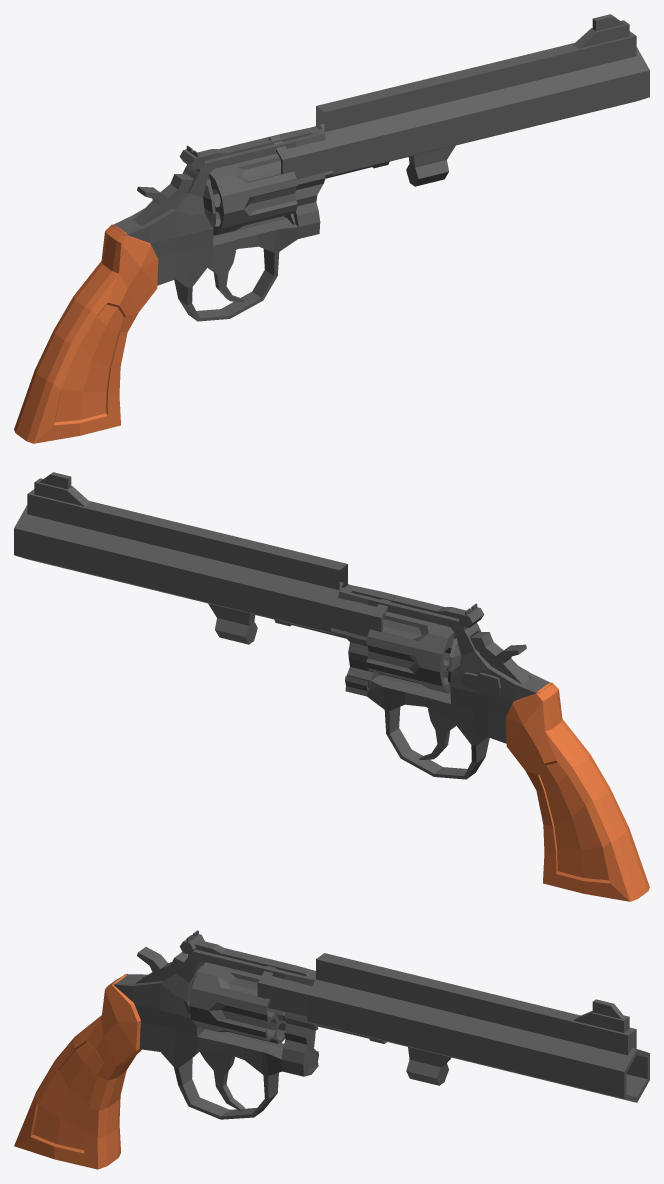
The model's file is Revolver.fbx.
3 views of the same model, one above another, from view 1: azimuth 30°, elevation 25°; view 2: azimuth 150°, elevation 25°; view 3: azimuth 330°, elevation 25° (orthographic).
Parts seen in each view (by area): view 1: Barrel, Handle, Frame, Barrel Sight, Cylinder, Hammer, Extractur Holder, Top Sight, Trigger; view 2: Barrel, Handle, Frame, Barrel Sight, Cylinder, Hammer, Extractur Holder, Cylender Mover, Top Sight, Trigger, Cube; view 3: Barrel, Handle, Frame, Barrel Sight, Cylinder, Extractur Holder, Hammer, Trigger, Top Sight.
Boxes of the visible parts, x1,y1,x2,y2 form: Barrel: (268, 47, 649, 179); Handle: (14, 224, 158, 443); Frame: (111, 126, 325, 321); Barrel Sight: (316, 14, 636, 132); Cylinder: (207, 153, 297, 235); Hammer: (133, 174, 193, 226); Extractur Holder: (406, 145, 455, 186); Top Sight: (198, 128, 312, 160); Trigger: (207, 250, 244, 301); Barrel: (14, 505, 395, 637); Handle: (505, 682, 649, 901); Frame: (338, 584, 552, 779); Barrel Sight: (27, 472, 347, 590); Cylinder: (366, 611, 456, 693); Hammer: (470, 632, 530, 684); Extractur Holder: (208, 603, 257, 644); Cylender Mover: (346, 633, 381, 689); Top Sight: (351, 586, 465, 618); Trigger: (419, 708, 456, 759); Cube: (462, 672, 500, 696); Barrel: (257, 960, 649, 1102); Handle: (14, 973, 141, 1169); Frame: (111, 948, 318, 1119); Barrel Sight: (316, 953, 636, 1055); Cylinder: (189, 962, 286, 1043); Extractur Holder: (406, 1047, 451, 1085); Hammer: (135, 947, 187, 983); Trigger: (199, 1051, 244, 1110); Top Sight: (194, 940, 312, 976).
Bounding box in the file's own units: 550 × 238 × 54.53.
